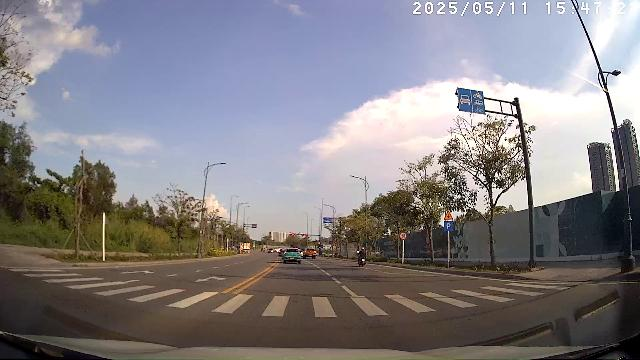127-toc-do-toi-da-50: (399, 232, 407, 240)
